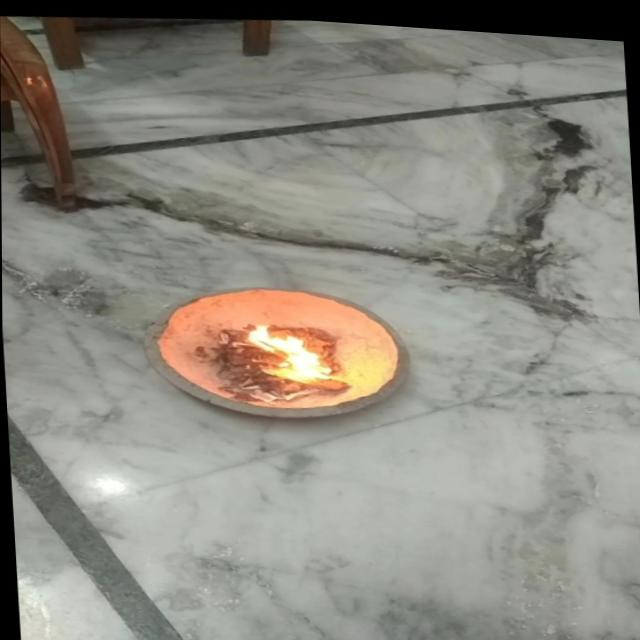fire: (236, 314, 341, 386)
